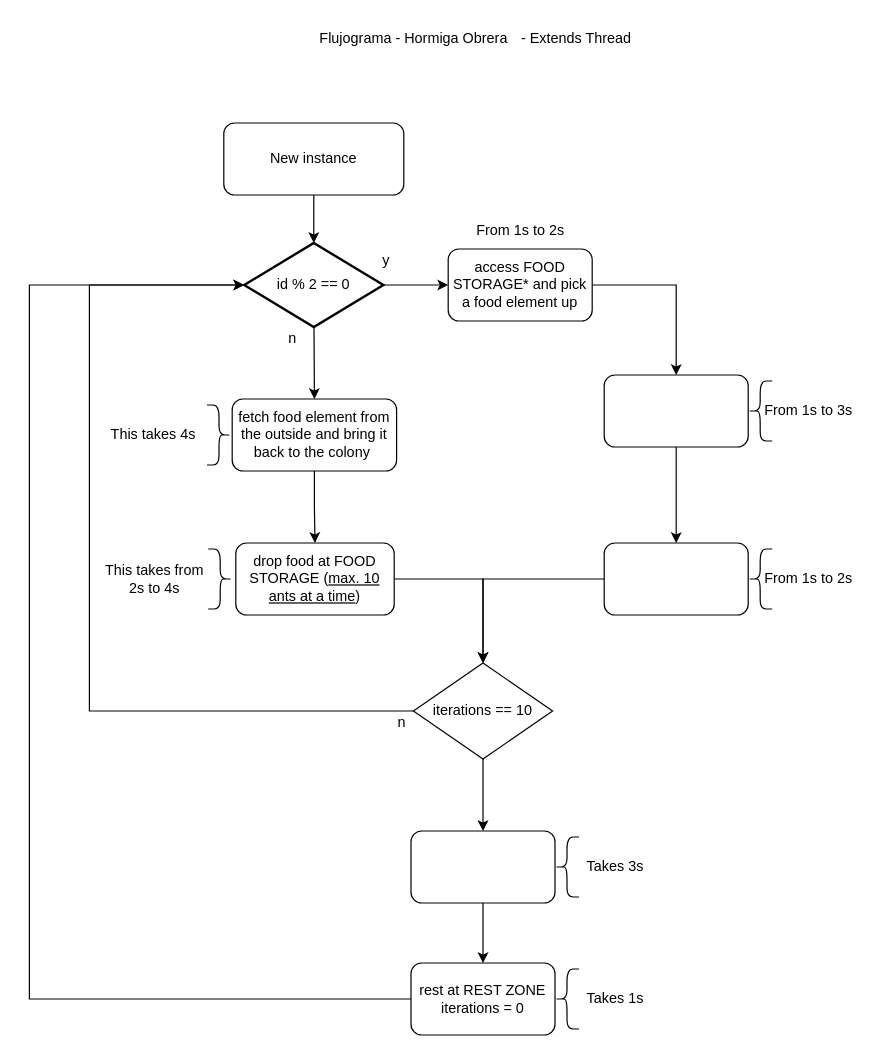
This 889x1056 diagram has some shape labels left out. Here are the shapes that lost their labels. From the top down, the centre of each, then its label:
At [675,410]: "walk up to EATING ZONE".
At [675,578]: "Access EATING ZONE and drop food element".
At [482,866]: "get to the EATING ZONE and have ONE food element".
